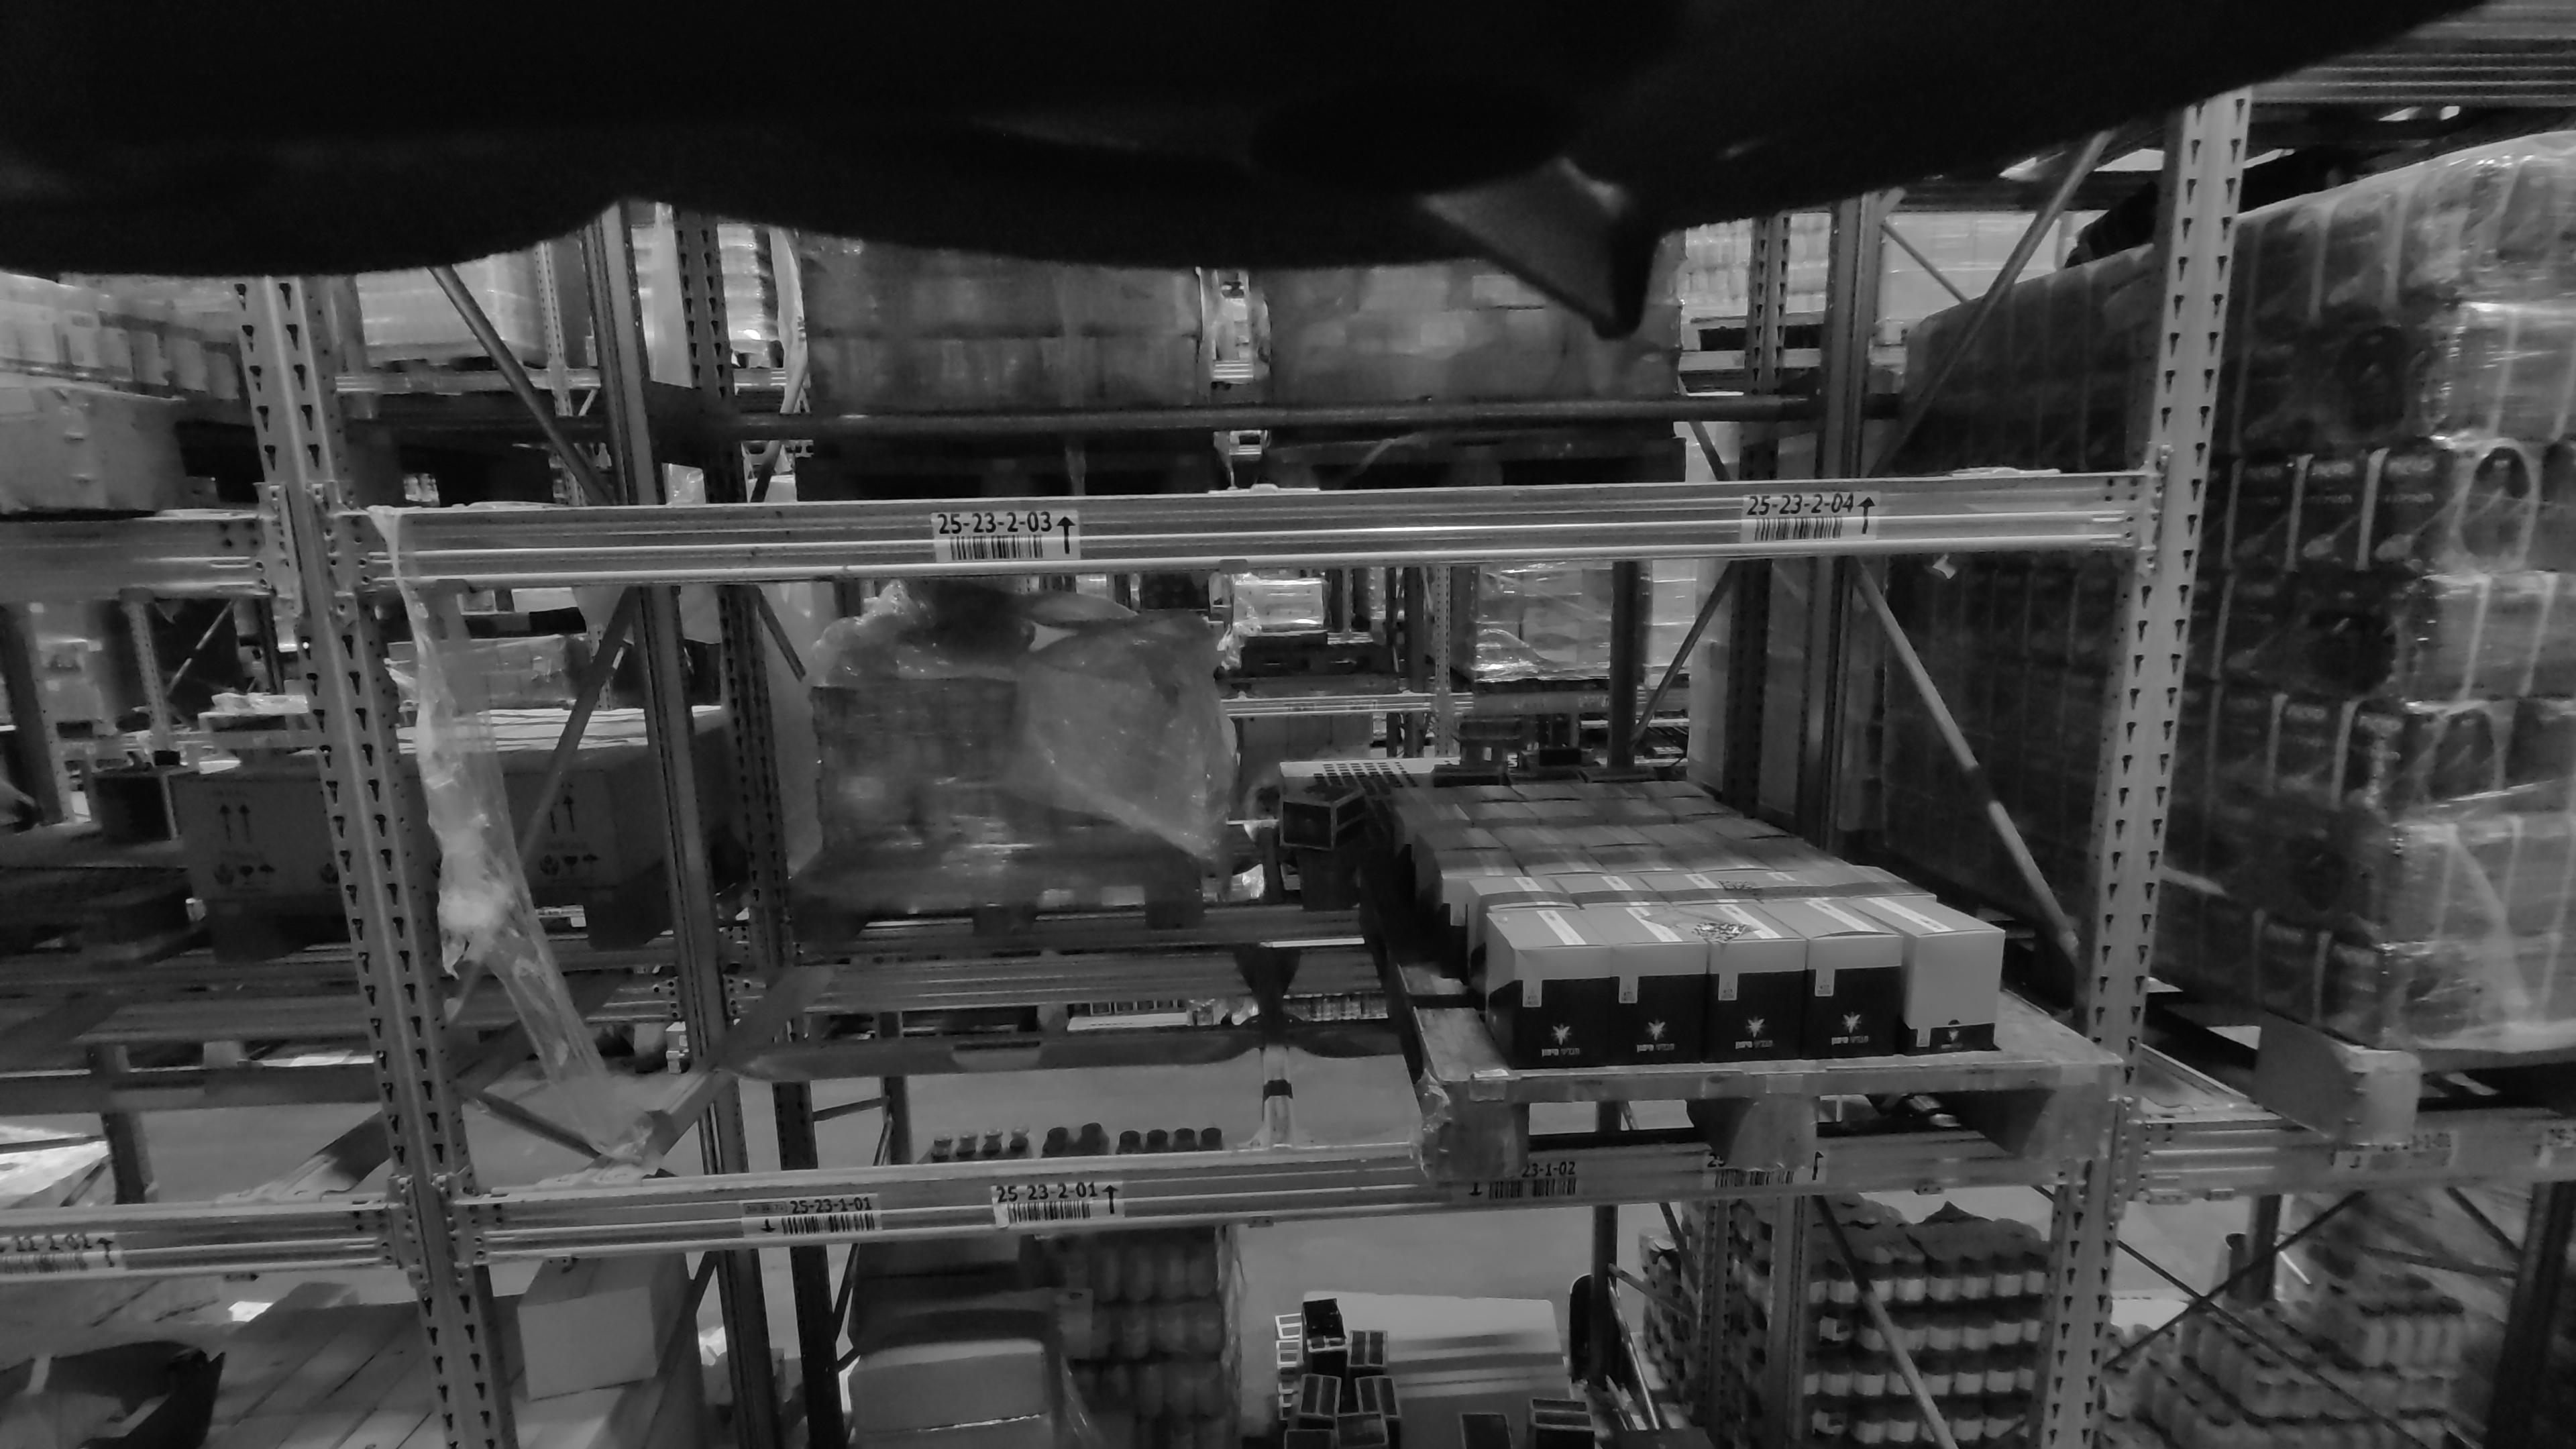empty-shelf: (573, 579, 1293, 1145), (439, 161, 1290, 494), (1330, 184, 2077, 474), (0, 593, 287, 1180)
